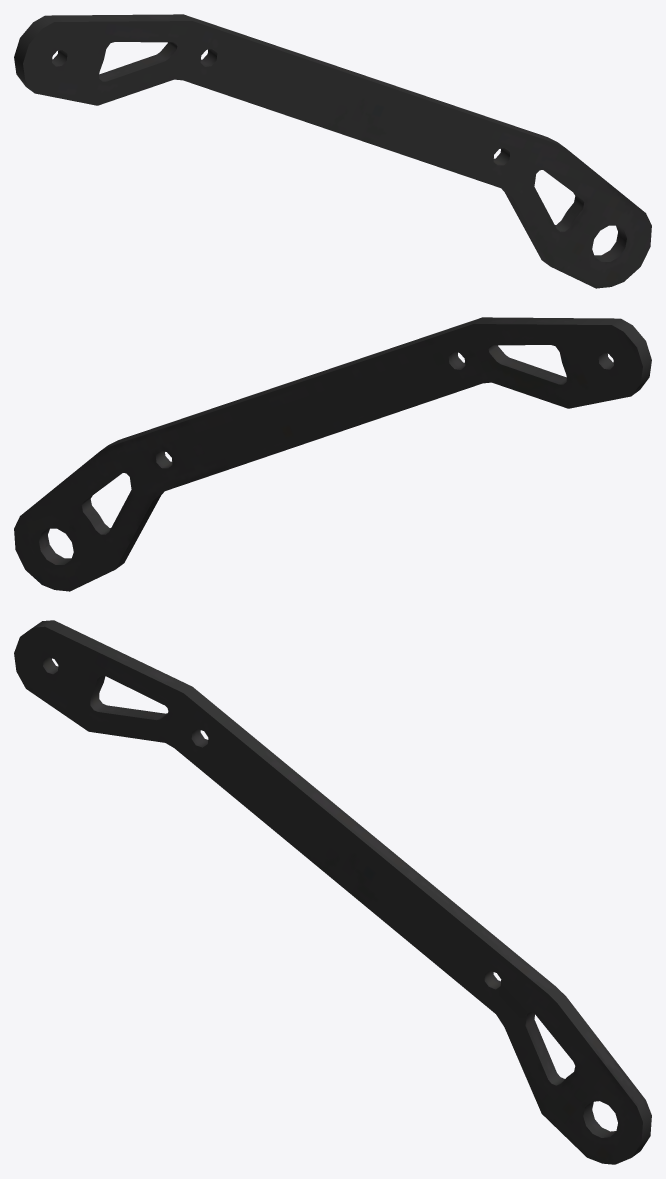
The model's file is rod_1.dae.
3 renders of one model, top to bottom at view 1: azimuth 30°, elevation 25°; view 2: azimuth 150°, elevation 25°; view 3: azimuth 330°, elevation 25°, orthographic.
Visible parts, largest first — view 1: rod_1; view 2: rod_1; view 3: rod_1.
Part boxes in pixels (bbox=[...]): rod_1: bbox=[14, 14, 651, 288]; rod_1: bbox=[14, 317, 651, 591]; rod_1: bbox=[14, 620, 651, 1164].
Bounding box in the file's own units: 0.12 × 0.00297 × 0.0731.
